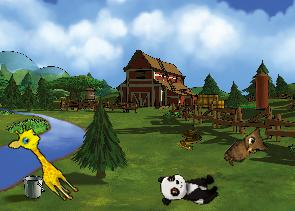giraffe: (3, 120, 88, 205)
owl: (221, 123, 273, 176)
panda: (158, 171, 219, 206)
